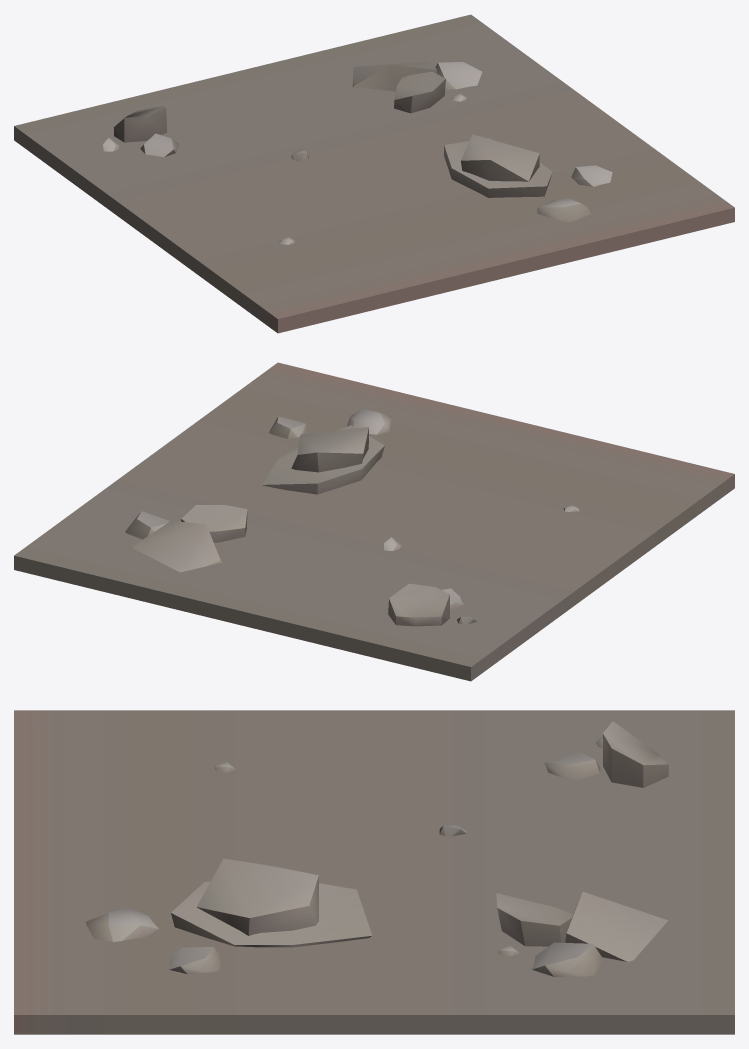
The model's file is floor_dirt_large_rocky.glb.
3 renders of one model, top to bottom at view 1: azimuth 30°, elevation 25°; view 2: azimuth 150°, elevation 25°; view 3: azimuth 270°, elevation 25°, orthographic. The views are drawn at different scales.
Parts seen in each view (by area): view 1: floor_dirt_large_rocky; view 2: floor_dirt_large_rocky; view 3: floor_dirt_large_rocky.
Boxes of the visible parts, x1,y1,x2,y2 form: floor_dirt_large_rocky: (14, 14, 734, 333); floor_dirt_large_rocky: (14, 362, 734, 681); floor_dirt_large_rocky: (14, 710, 734, 1034).
Bounding box in the file's own units: 4 × 0.3926 × 4.
Materials: 1 (1 with a texture image).
